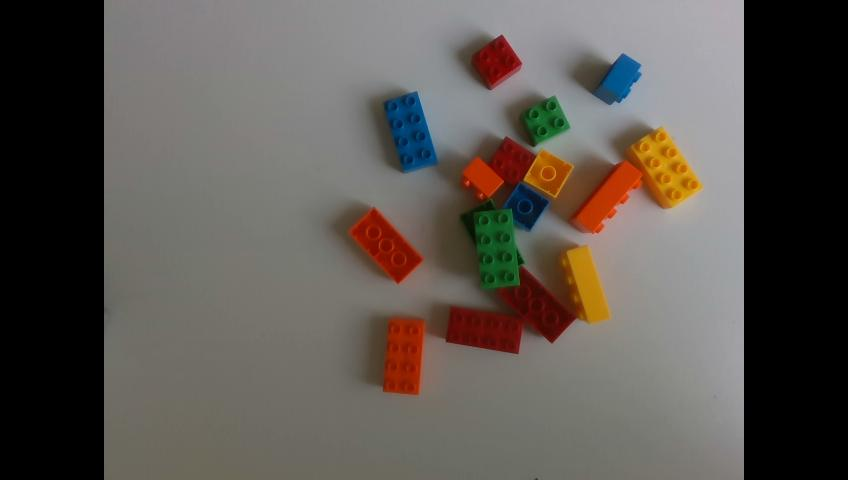2x2_blue: (596, 52, 643, 104), (503, 180, 551, 230)
2x2_green: (524, 96, 571, 144)
2x2_orange: (462, 158, 503, 200)
2x2_red: (473, 33, 523, 89), (487, 134, 538, 187)
2x2_yellow: (524, 150, 572, 197)
4x2_blue: (382, 90, 439, 171)
4x2_green: (472, 209, 518, 291)
4x2_orange: (348, 207, 423, 282), (571, 159, 643, 233), (384, 318, 424, 393)
4x2_red: (493, 265, 578, 344), (448, 305, 523, 353)
4x2_yellow: (624, 125, 703, 207), (556, 244, 611, 323)
